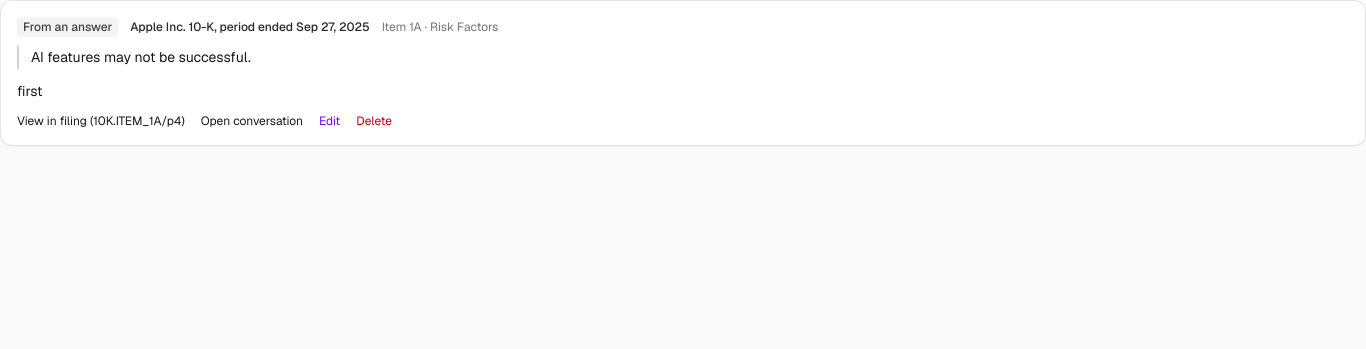
Test: FindingCard › edits the note, tags and session
Click the button "Edit": [330, 121] box [319,113,340,129]
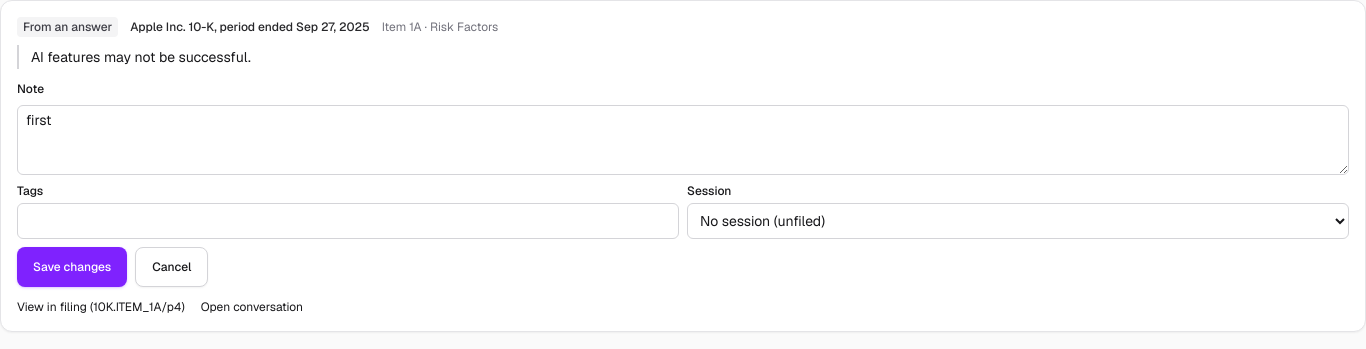
Replace the text in the text box labelled "Note" with "revised": [683, 140] box [17,105,1349,175]
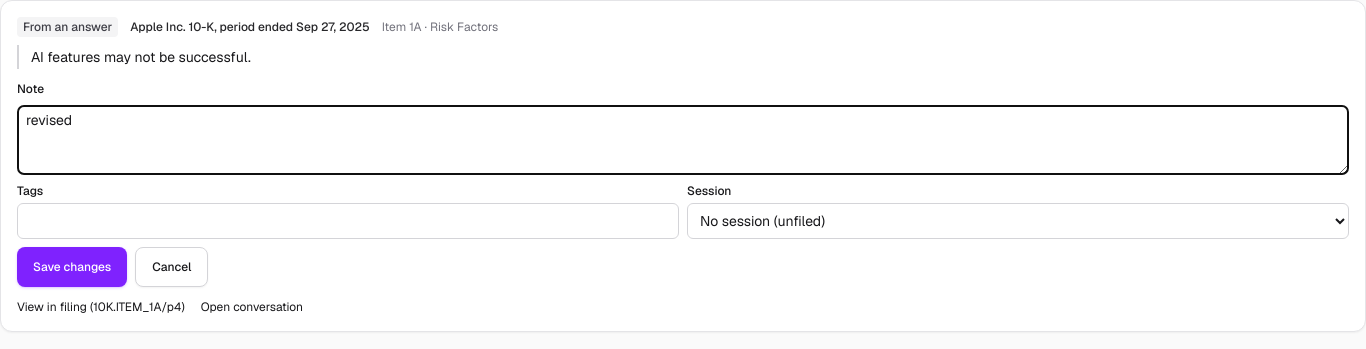
In the field labelled "Tags": [348, 221] box [17,203,679,239], type "Margins"
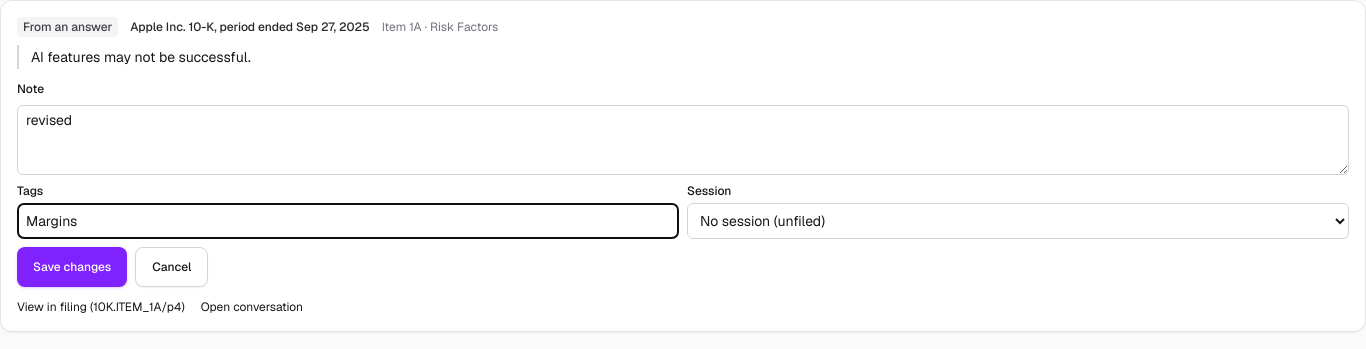
Select "AI risk" in the dropdown labelled "Session": [1018, 221] box [687,203,1349,239]
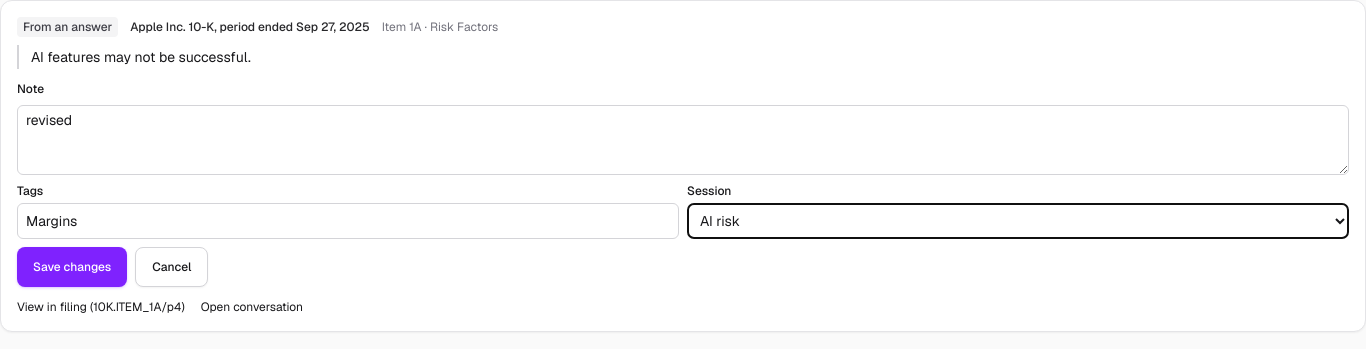
Click the button "Save changes": [72, 267] box [17,247,127,287]
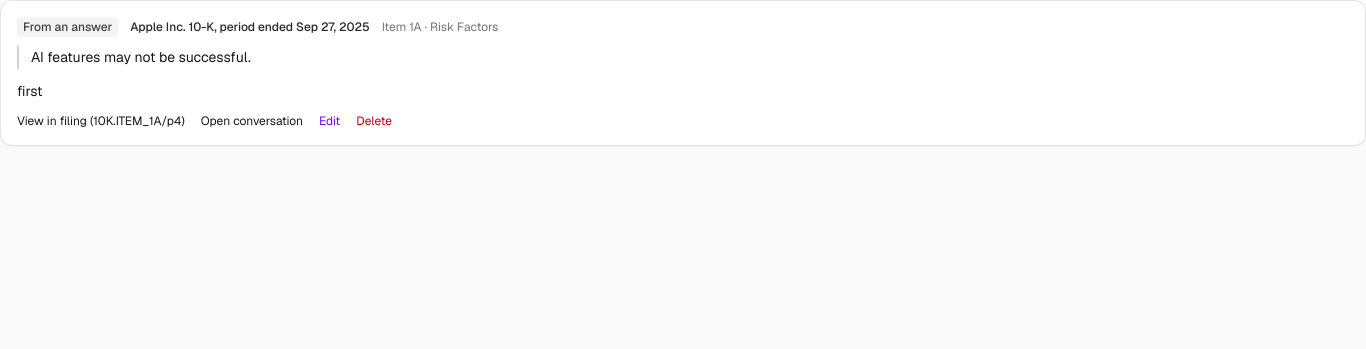
Now the button "Edit" is shown, box [319,113,340,129]
